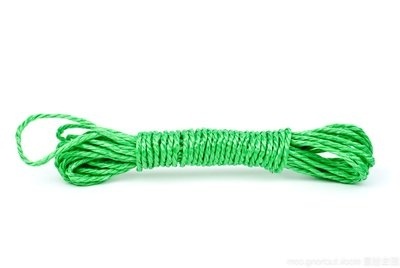9/可回收垃圾/绳子: (16, 113, 376, 187)
